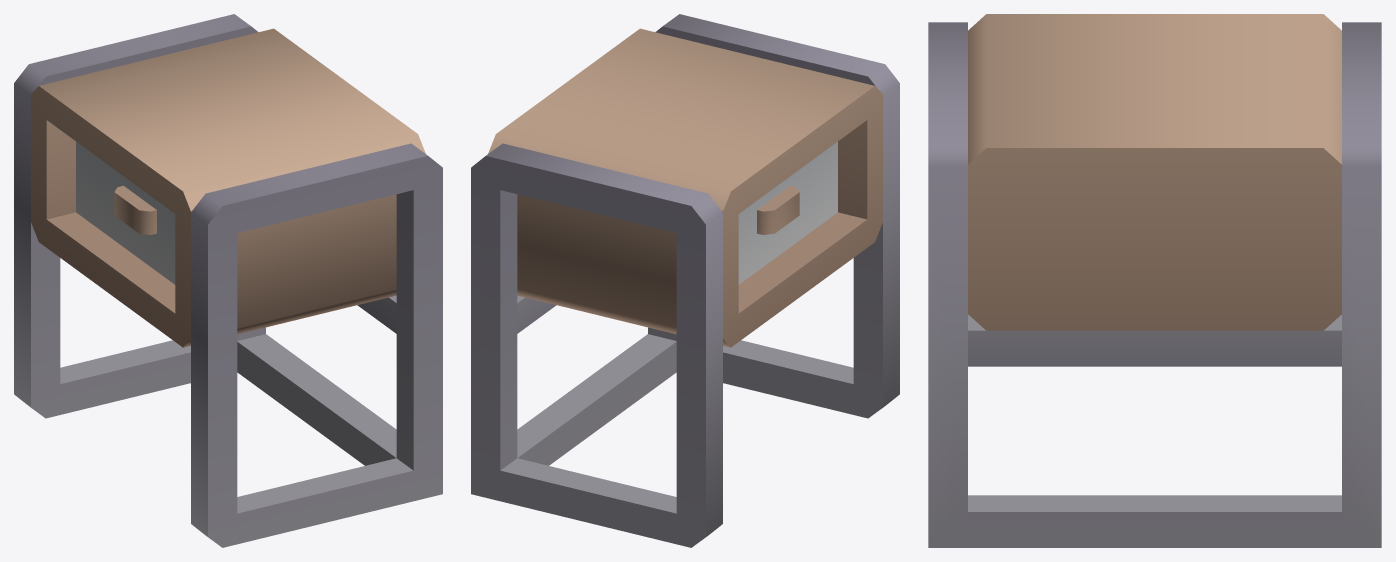
Rendered from sidetable-small-drawers-frame-sides.glb.
3 views of the same model, side by side, from view 1: azimuth 30°, elevation 25°; view 2: azimuth 150°, elevation 25°; view 3: azimuth 270°, elevation 25° (orthographic). The views are drawn at different scales.
Parts seen in each view (by area): view 1: sidetable-small-drawers-frame-sides; view 2: sidetable-small-drawers-frame-sides; view 3: sidetable-small-drawers-frame-sides.
Part boxes in pixels (x1,y1,x2,y2): sidetable-small-drawers-frame-sides: [14, 14, 442, 547]; sidetable-small-drawers-frame-sides: [471, 14, 899, 547]; sidetable-small-drawers-frame-sides: [928, 14, 1381, 547].
Size of the model in its own units: 0.4 by 0.556 by 0.571.
